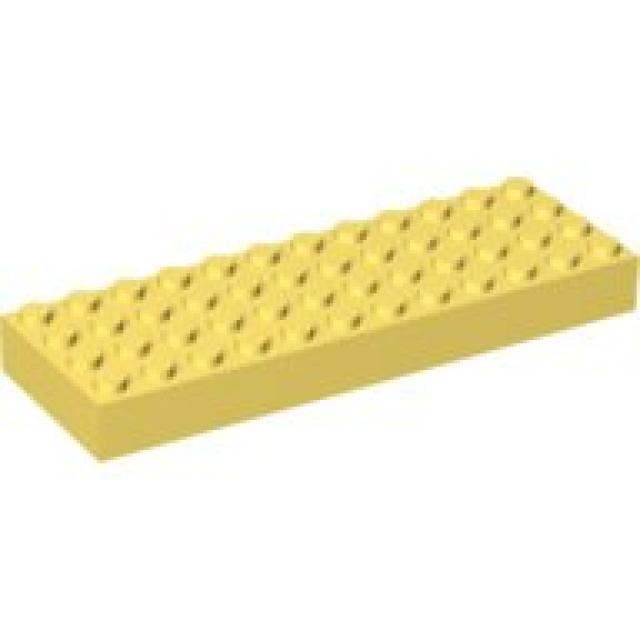Yellow_Large: (0, 177, 640, 463)
